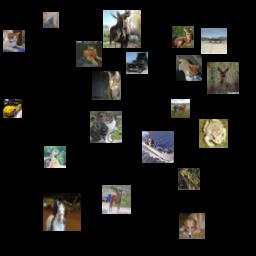airplane: (201, 28, 227, 54), (43, 12, 59, 28)
automobile: (3, 99, 22, 118)
bird: (44, 146, 66, 168)
cat: (90, 111, 122, 143), (92, 71, 121, 100), (76, 41, 102, 67), (176, 55, 202, 81), (3, 30, 25, 52)
deer: (103, 10, 141, 48), (207, 62, 239, 94), (172, 26, 194, 48)
dog: (179, 213, 205, 239)
frog: (199, 119, 228, 148), (178, 168, 200, 190)
ship: (142, 131, 174, 163)
truck: (126, 52, 148, 74)
